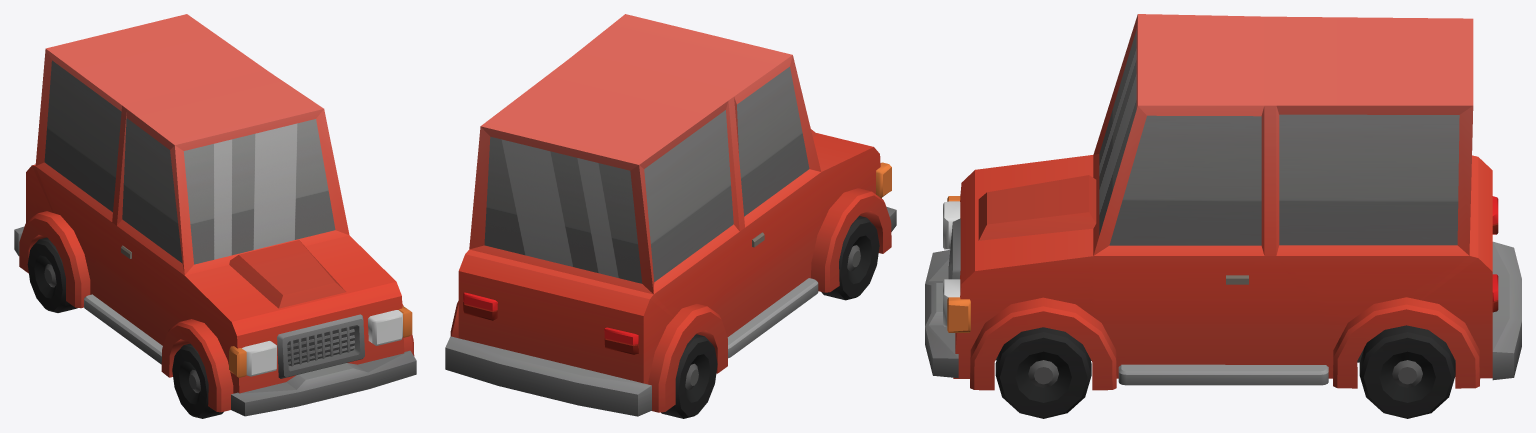
Rendered from Car_5_13.glb.
The picture shows the model from 3 angles, left to right: view 1: azimuth 30°, elevation 25°; view 2: azimuth 150°, elevation 25°; view 3: azimuth 270°, elevation 25°; orthographic projection. The views are drawn at different scales.
Visible parts, largest first — view 1: Car_5_13, W_br, W_fr; view 2: Car_5_13, W_br, W_fr; view 3: Car_5_13, W_bl, W_fl.
Boxes of the visible parts, left/top/right/bottom form: Car_5_13: left=14, top=14, right=416, bottom=416; W_br: left=27, top=237, right=77, bottom=312; W_fr: left=172, top=343, right=223, bottom=418; Car_5_13: left=445, top=14, right=896, bottom=416; W_br: left=661, top=334, right=717, bottom=418; W_fr: left=821, top=216, right=879, bottom=300; Car_5_13: left=925, top=14, right=1521, bottom=390; W_bl: left=1359, top=325, right=1455, bottom=418; W_fl: left=995, top=327, right=1091, bottom=418.
Size of the model in its own units: 1.13 by 1.3 by 2.33.
6 materials, 6 textured.
